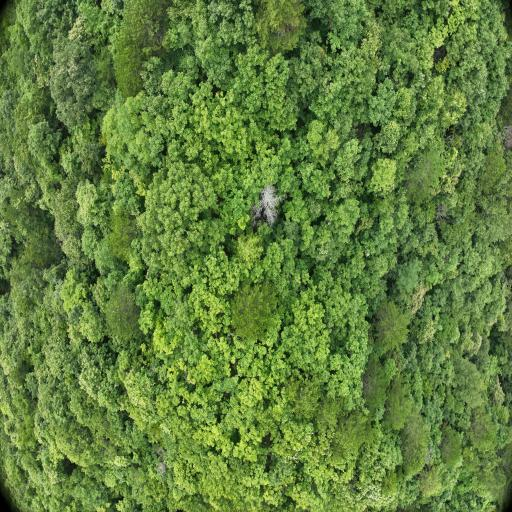dead-tree: (264, 189, 274, 217)
